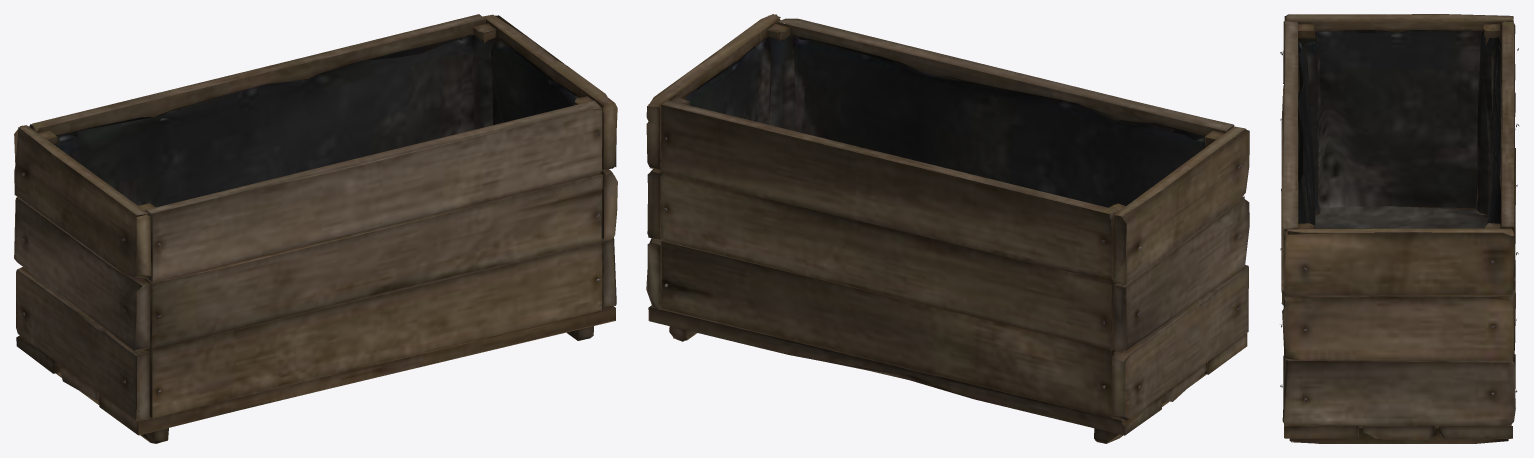
The model's file is planter.glb.
3 views of the same model, side by side, from view 1: azimuth 30°, elevation 25°; view 2: azimuth 150°, elevation 25°; view 3: azimuth 270°, elevation 25° (orthographic). The views are drawn at different scales.
Visible parts, largest first — view 1: planter; view 2: planter; view 3: planter.
Boxes of the visible parts, x1=… form: planter: x1=14, y1=14, x2=617, y2=443; planter: x1=646, y1=14, x2=1249, y2=443; planter: x1=1280, y1=14, x2=1519, y2=443.
Bounding box in the file's own units: 1.18 × 0.55 × 0.5438.
1 material, 1 textured.
